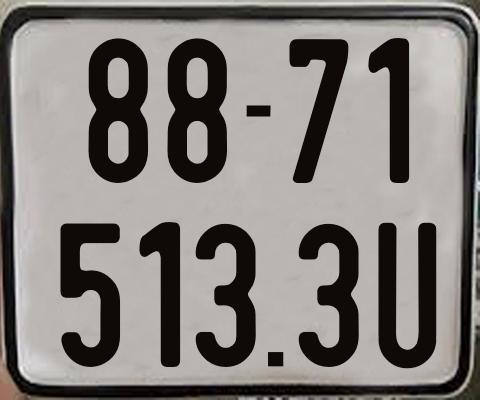1: (137, 219, 183, 365), (367, 35, 411, 183)
3: (196, 223, 260, 366), (299, 221, 360, 368)
5: (57, 220, 122, 369)
7: (288, 38, 352, 185)
8: (164, 35, 230, 186), (85, 38, 150, 185)
U: (377, 222, 440, 372)
